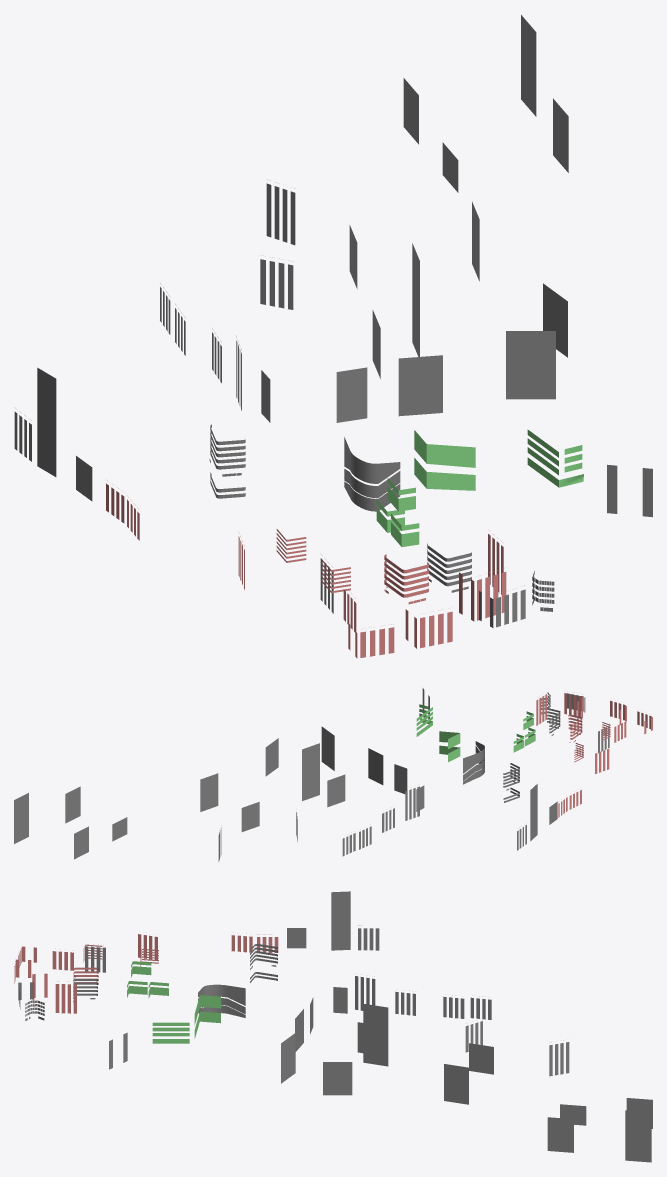
File: S_Envi_Umeda_Building_012.gltf
The picture shows the model from 3 angles, top to bottom: view 1: azimuth 30°, elevation 25°; view 2: azimuth 150°, elevation 25°; view 3: azimuth 270°, elevation 25°; orthographic projection. The views are drawn at different scales.
Visible parts, largest first — view 1: S_Envi_Umeda_Building_012; view 2: S_Envi_Umeda_Building_012; view 3: S_Envi_Umeda_Building_012.
Part boxes in pixels (x1,y1,x2,y2): S_Envi_Umeda_Building_012: (14, 15, 652, 658); S_Envi_Umeda_Building_012: (14, 688, 652, 861); S_Envi_Umeda_Building_012: (14, 891, 652, 1162).
Bounding box in the file's own units: 381 × 54.23 × 482.
